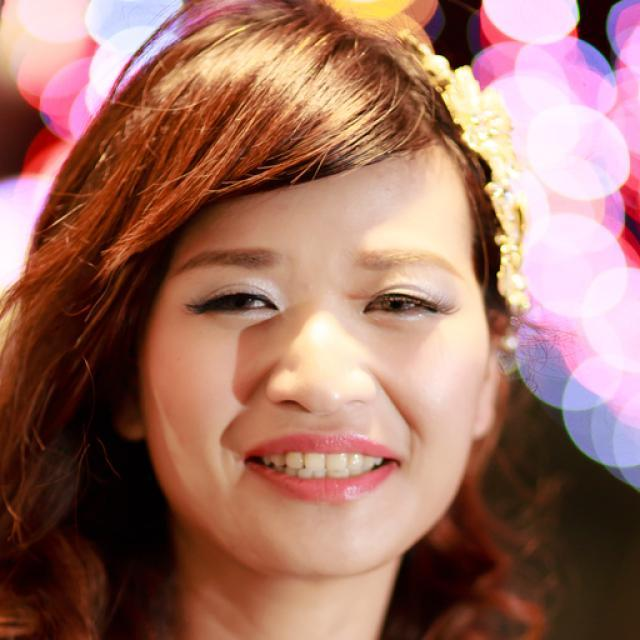disgust: (140, 135, 488, 574)
